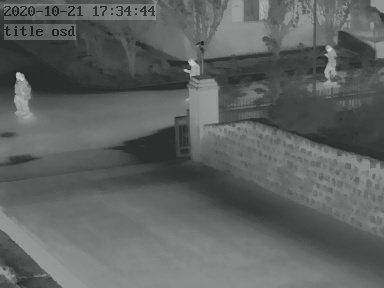person: (12, 71, 31, 115), (323, 41, 338, 84), (183, 56, 199, 79)
